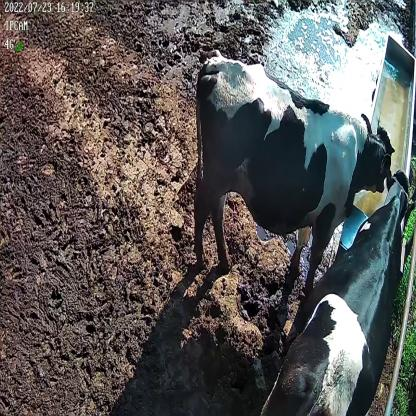cow: (195, 52, 396, 292), (258, 167, 415, 416)
